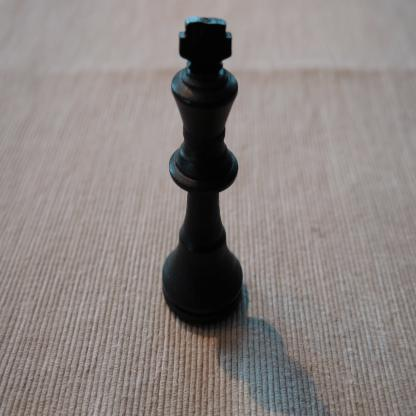black-king: (161, 15, 243, 328)
